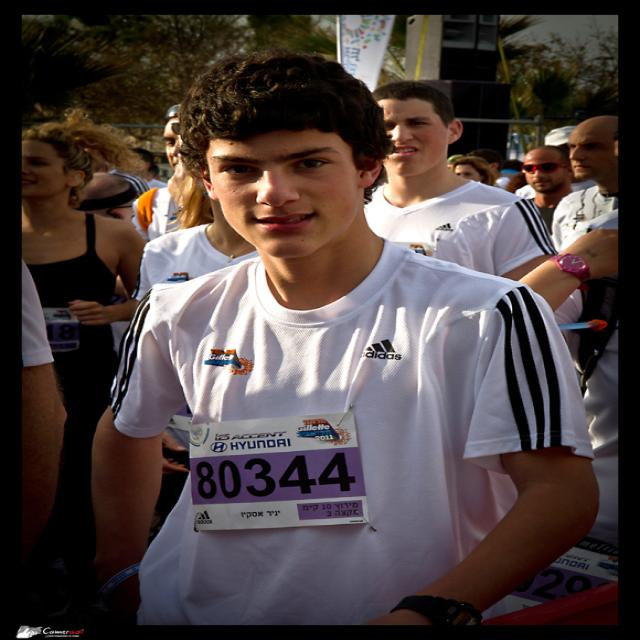Bib: (198, 454, 355, 506)
